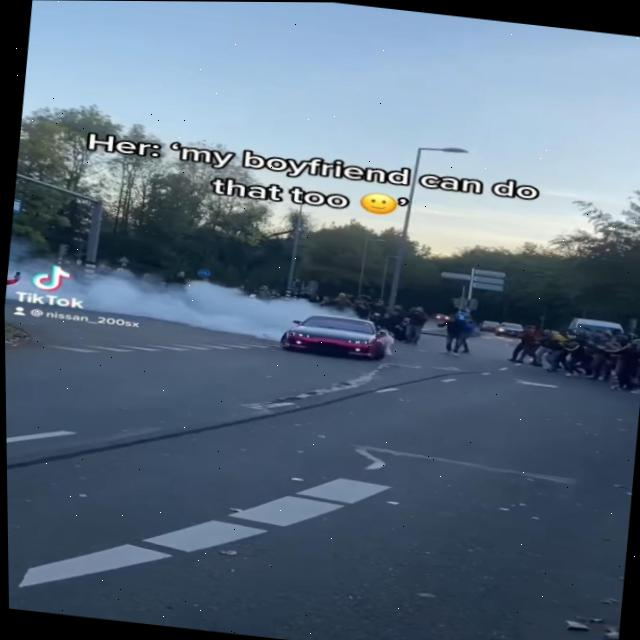vehicle: (282, 306, 392, 368)
